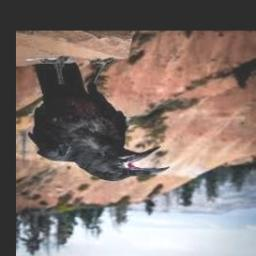Crow: (23, 64, 169, 182)
